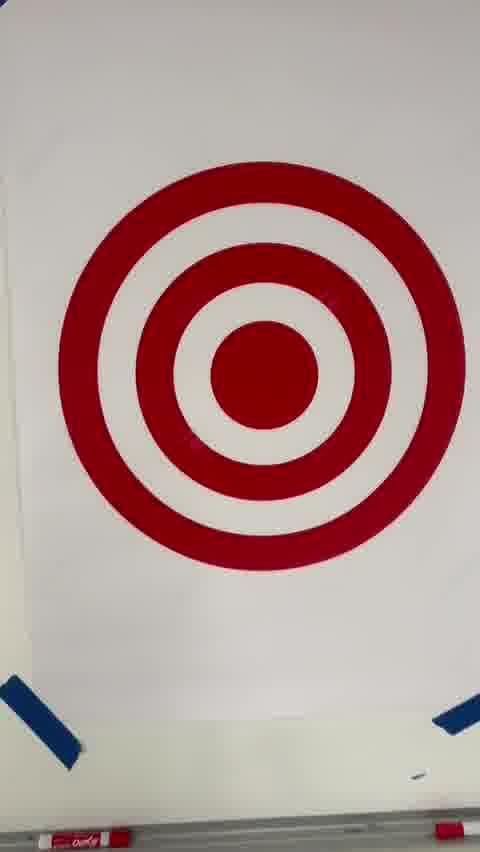target_red: (57, 161, 468, 571)
